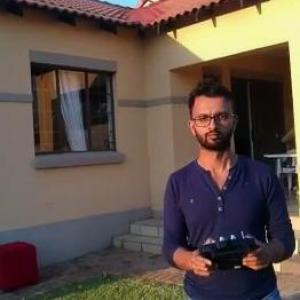follow: (159, 75, 299, 299)
